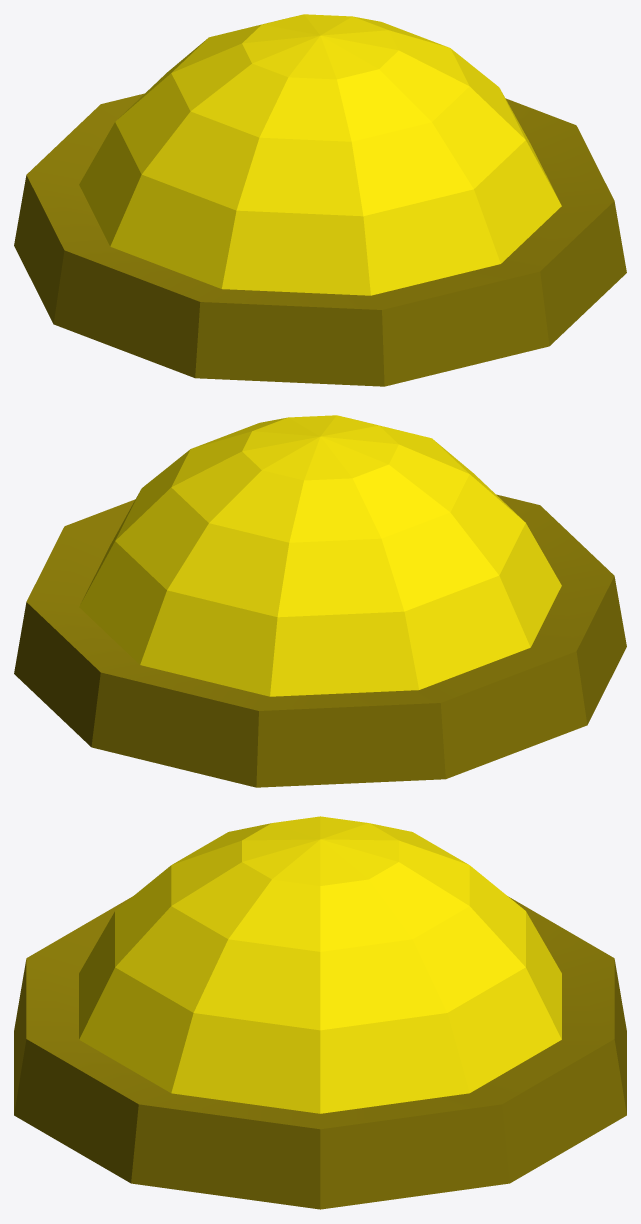
Rendered from Light.fbx.
3 views of the same model, one above another, from view 1: azimuth 30°, elevation 25°; view 2: azimuth 150°, elevation 25°; view 3: azimuth 270°, elevation 25° (orthographic). The views are drawn at different scales.
Parts seen in each view (by area): view 1: pSphere1; view 2: pSphere1; view 3: pSphere1.
Boxes of the visible parts, x1=… form: pSphere1: x1=14, y1=14, x2=626, y2=386; pSphere1: x1=14, y1=415, x2=626, y2=787; pSphere1: x1=14, y1=816, x2=626, y2=1209.
Size of the model in its own units: 2.41 by 0.9671 by 2.3.
